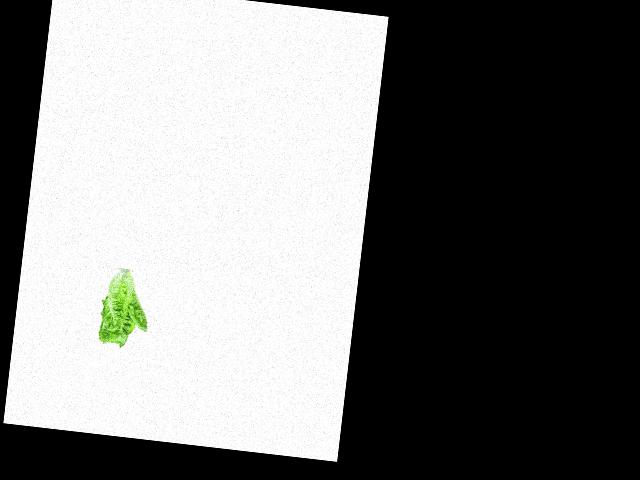lettuce: (93, 269, 153, 351)
